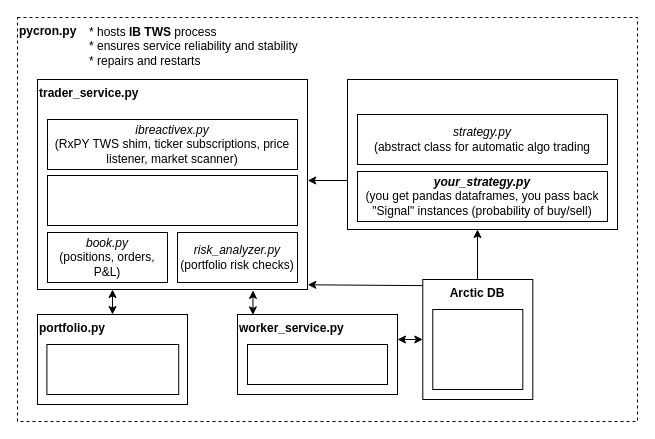
Some shapes in this 655 by 439 pixel diagram are drawn without their labels. Here are the shapes that lost their labels. From the top down, the box of each, then its label:
(346, 78, 618, 230): strategy_service.py
(46, 174, 298, 226): executioner.py (Trade execution, VWAP, "do not trade list", red button etc)
(46, 344, 179, 394): Portfolio optimization on wealth, age, profile, strategy, etc
(246, 344, 388, 384): Batch processing, historical data download
(432, 308, 523, 390): (historical instrument prices by bar_size)
